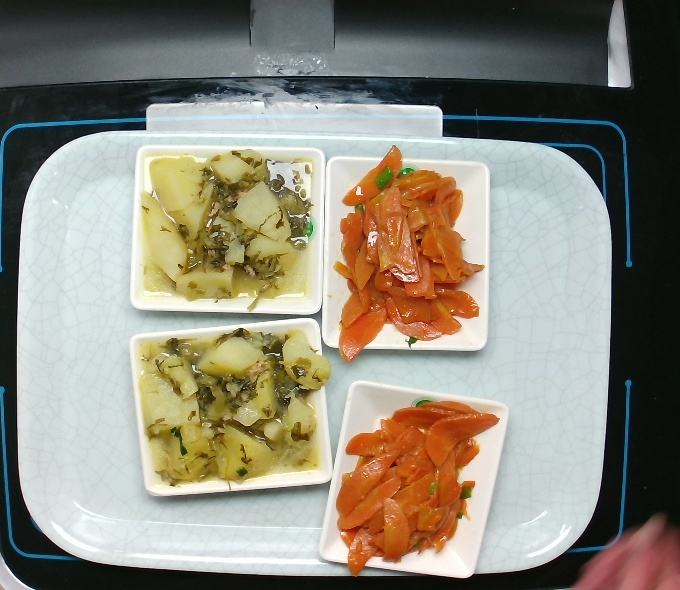wcq-HuLuoBo: (332, 161, 484, 341), (340, 399, 486, 564)
wcq-XueCaiTuDou: (139, 146, 308, 305), (140, 327, 309, 486)
